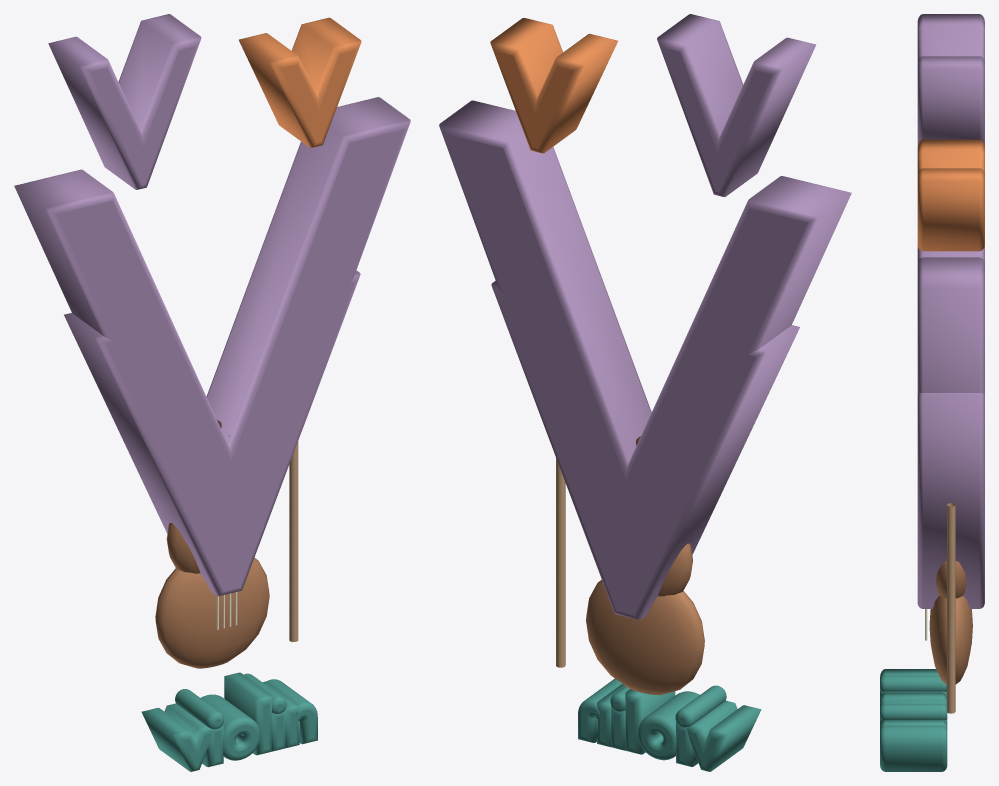
File: letter-v.glb
3 renders of one model, left to right at view 1: azimuth 30°, elevation 25°; view 2: azimuth 150°, elevation 25°; view 3: azimuth 270°, elevation 25°, orthographic. The views are drawn at different scales.
Parts seen in each view (by area): view 1: letter solid, letter solid.001, uppercase solid, example word, lowercase solid, violin lower body, bow, violin upper body; view 2: letter solid, letter solid.001, uppercase solid, example word, lowercase solid, violin lower body, bow, violin upper body; view 3: letter solid.001, letter solid, uppercase solid, lowercase solid, example word, violin lower body, bow, violin upper body.
Part boxes in pixels (x1,y1,x2,y2): letter solid: (14,97,410,588); letter solid.001: (64,270,360,596); uppercase solid: (48,14,201,189); example word: (141,672,317,771); lowercase solid: (239,17,361,147); violin lower body: (155,557,269,668); bow: (289,441,298,641); violin upper body: (166,523,200,573); letter solid: (439,100,851,610); letter solid.001: (491,281,799,619); uppercase solid: (657,14,815,197); example word: (578,678,761,771); lowercase solid: (490,18,617,153); violin lower body: (586,579,704,695); bow: (556,458,565,667); violin upper body: (658,543,692,596); letter solid.001: (917,393,984,608); letter solid: (917,246,984,393); uppercase solid: (917,14,984,146); lowercase solid: (917,139,984,251); example word: (880,669,947,771); violin lower body: (929,595,972,684); bow: (947,503,955,713); violin upper body: (936,561,966,598).
Size of the model in its own units: 1.04 by 1.94 by 0.28.
